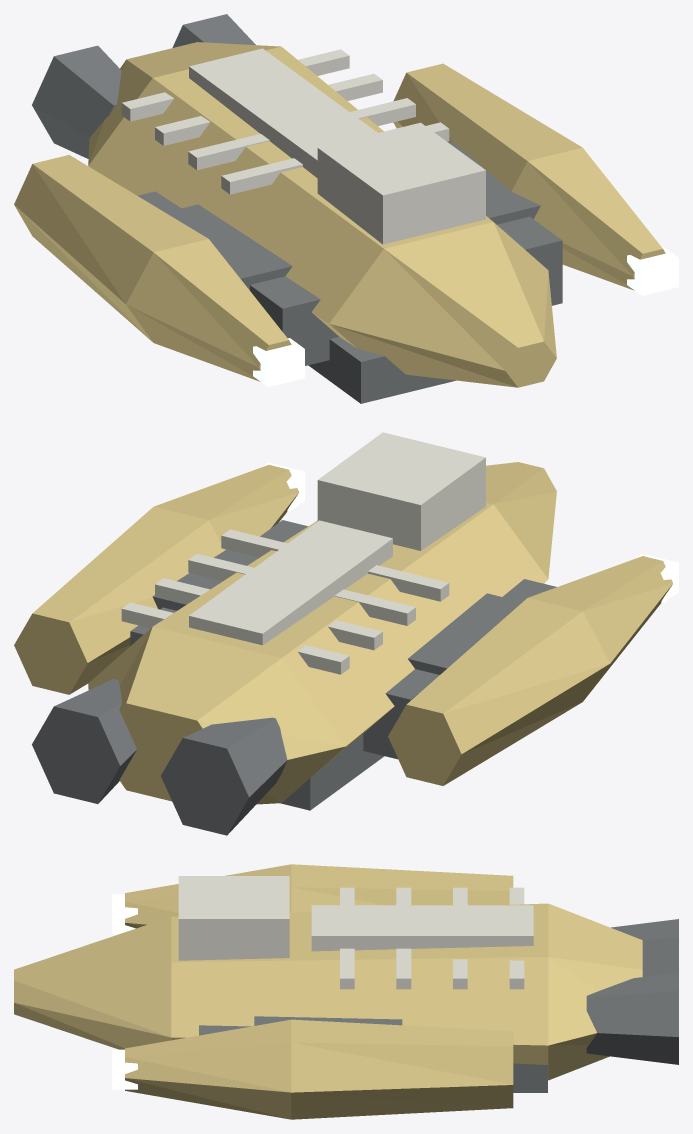
3 views of the same model, one above another, from view 1: azimuth 30°, elevation 25°; view 2: azimuth 150°, elevation 25°; view 3: azimuth 270°, elevation 25° (orthographic). The views are drawn at different scales.
Size of the model in its own units: 4.89 by 1.78 by 6.83.
